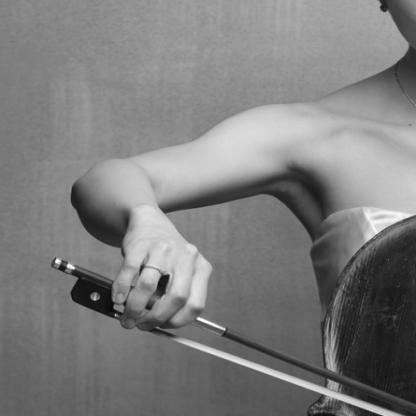bad: (104, 203, 236, 342)
